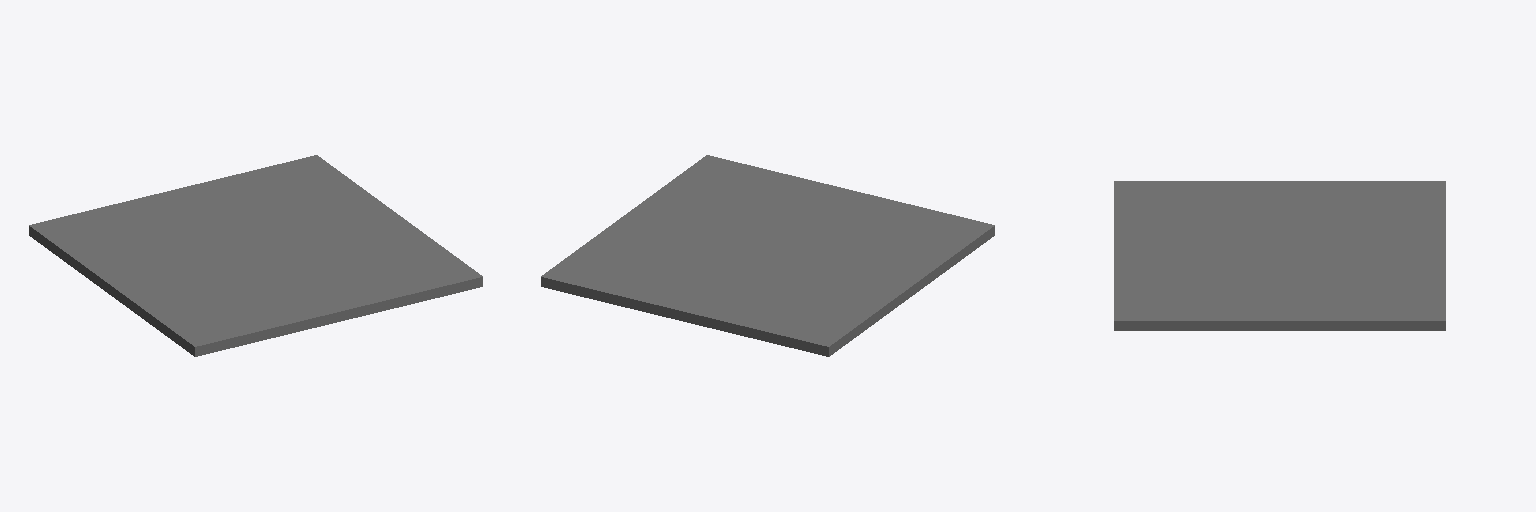
The model's file is ground.obj.
3 renders of one model, left to right at view 1: azimuth 30°, elevation 25°; view 2: azimuth 150°, elevation 25°; view 3: azimuth 270°, elevation 25°, orthographic.
Visible parts, largest first — view 1: pCube1; view 2: pCube1; view 3: pCube1.
Boxes of the visible parts, <box> form: pCube1: <box>29,155,482,356</box>; pCube1: <box>541,155,994,356</box>; pCube1: <box>1114,181,1445,330</box>.
Size of the model in its own units: 120 by 4 by 120.